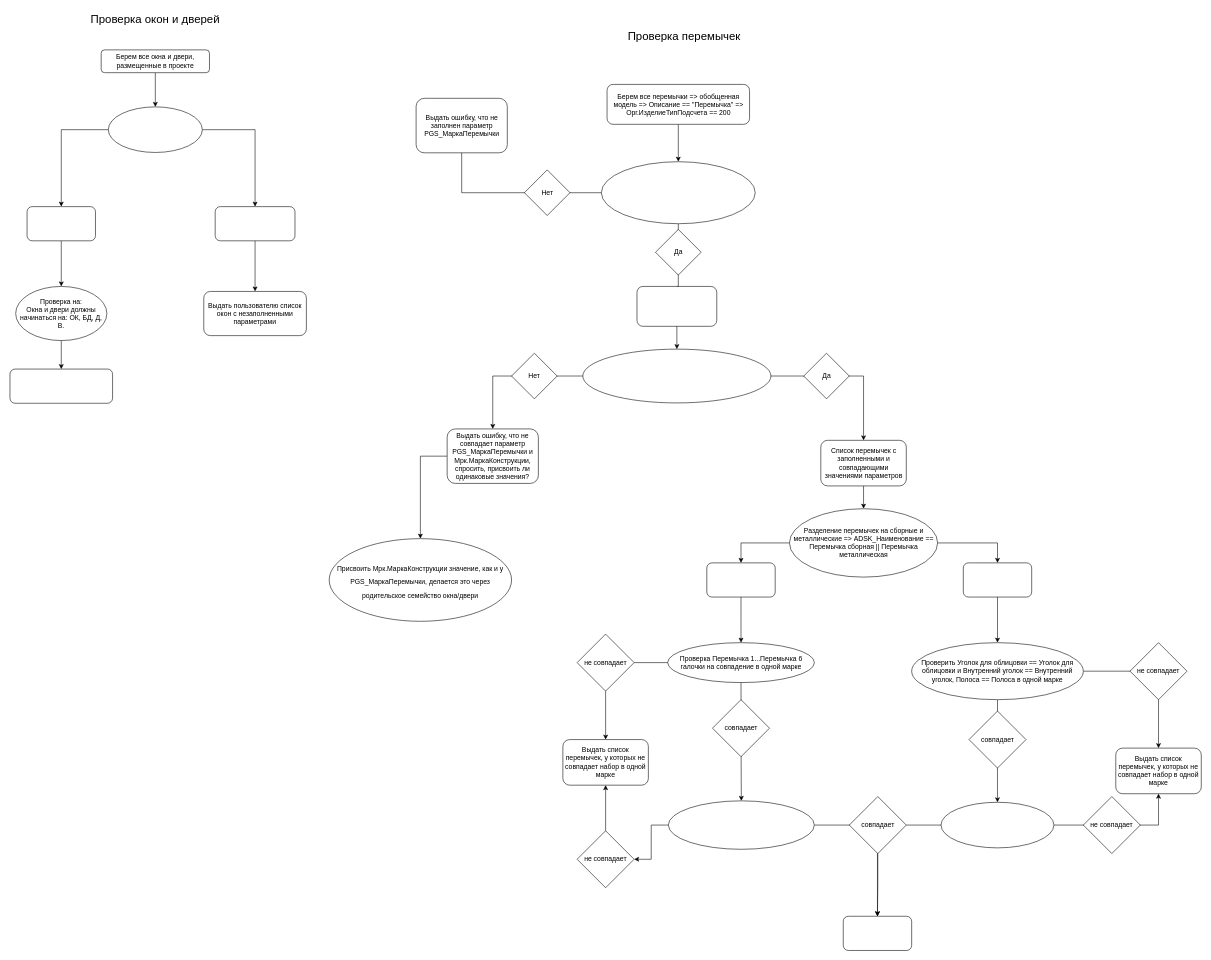
This 1211x960 diagram has some shape labels left out. Each missing label, with the box of its shape:
Выдать пользователю список окон и дверей у которых марка не по регламенту: (9, 369, 113, 403)
Лист с окнами и дверьми у которых заполнен параметр ADSK_Марка: (27, 206, 95, 241)
Лист с окнами и дверьми у которых не заполнен параметр ADSK_Марка: (215, 206, 295, 241)
Перемычки с заполненным параметром PGS_МаркаПеремычки: (636, 286, 717, 326)
Проверка на заполнение параметра ADSK_Марка: (108, 106, 202, 152)
Проверка на заполнение параметра PGS_МаркаПеремычки: (601, 161, 755, 224)
Проверка на совпадение параметра PGS_МаркаПеремычки и Мрк.МаркаКонструкции: (582, 349, 771, 403)
Проверка параметра Пластина_N: (940, 802, 1054, 848)
Проверка Тип1...Тип6 имена на совпадение в одной марке: (668, 800, 814, 849)
Сообщить пользователю об успешной проверке: (843, 916, 912, 950)
Список металлических перемычек: (963, 562, 1032, 597)
Список сборных перемычек: (706, 562, 775, 597)
